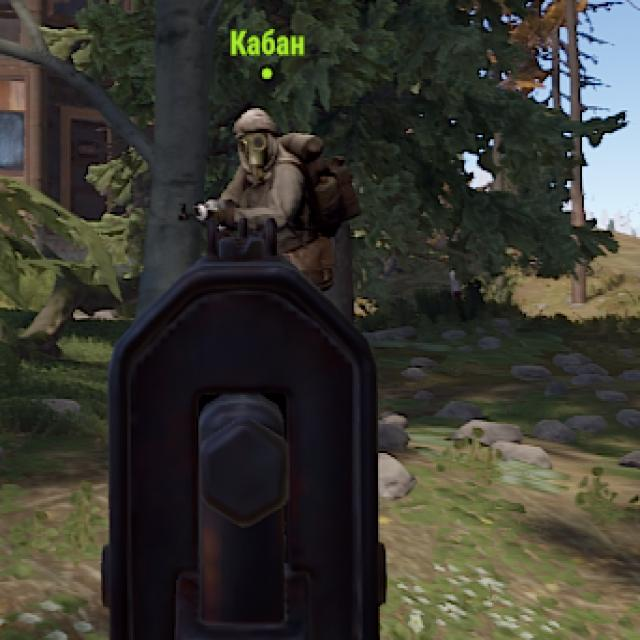Player: (205, 109, 342, 222)
